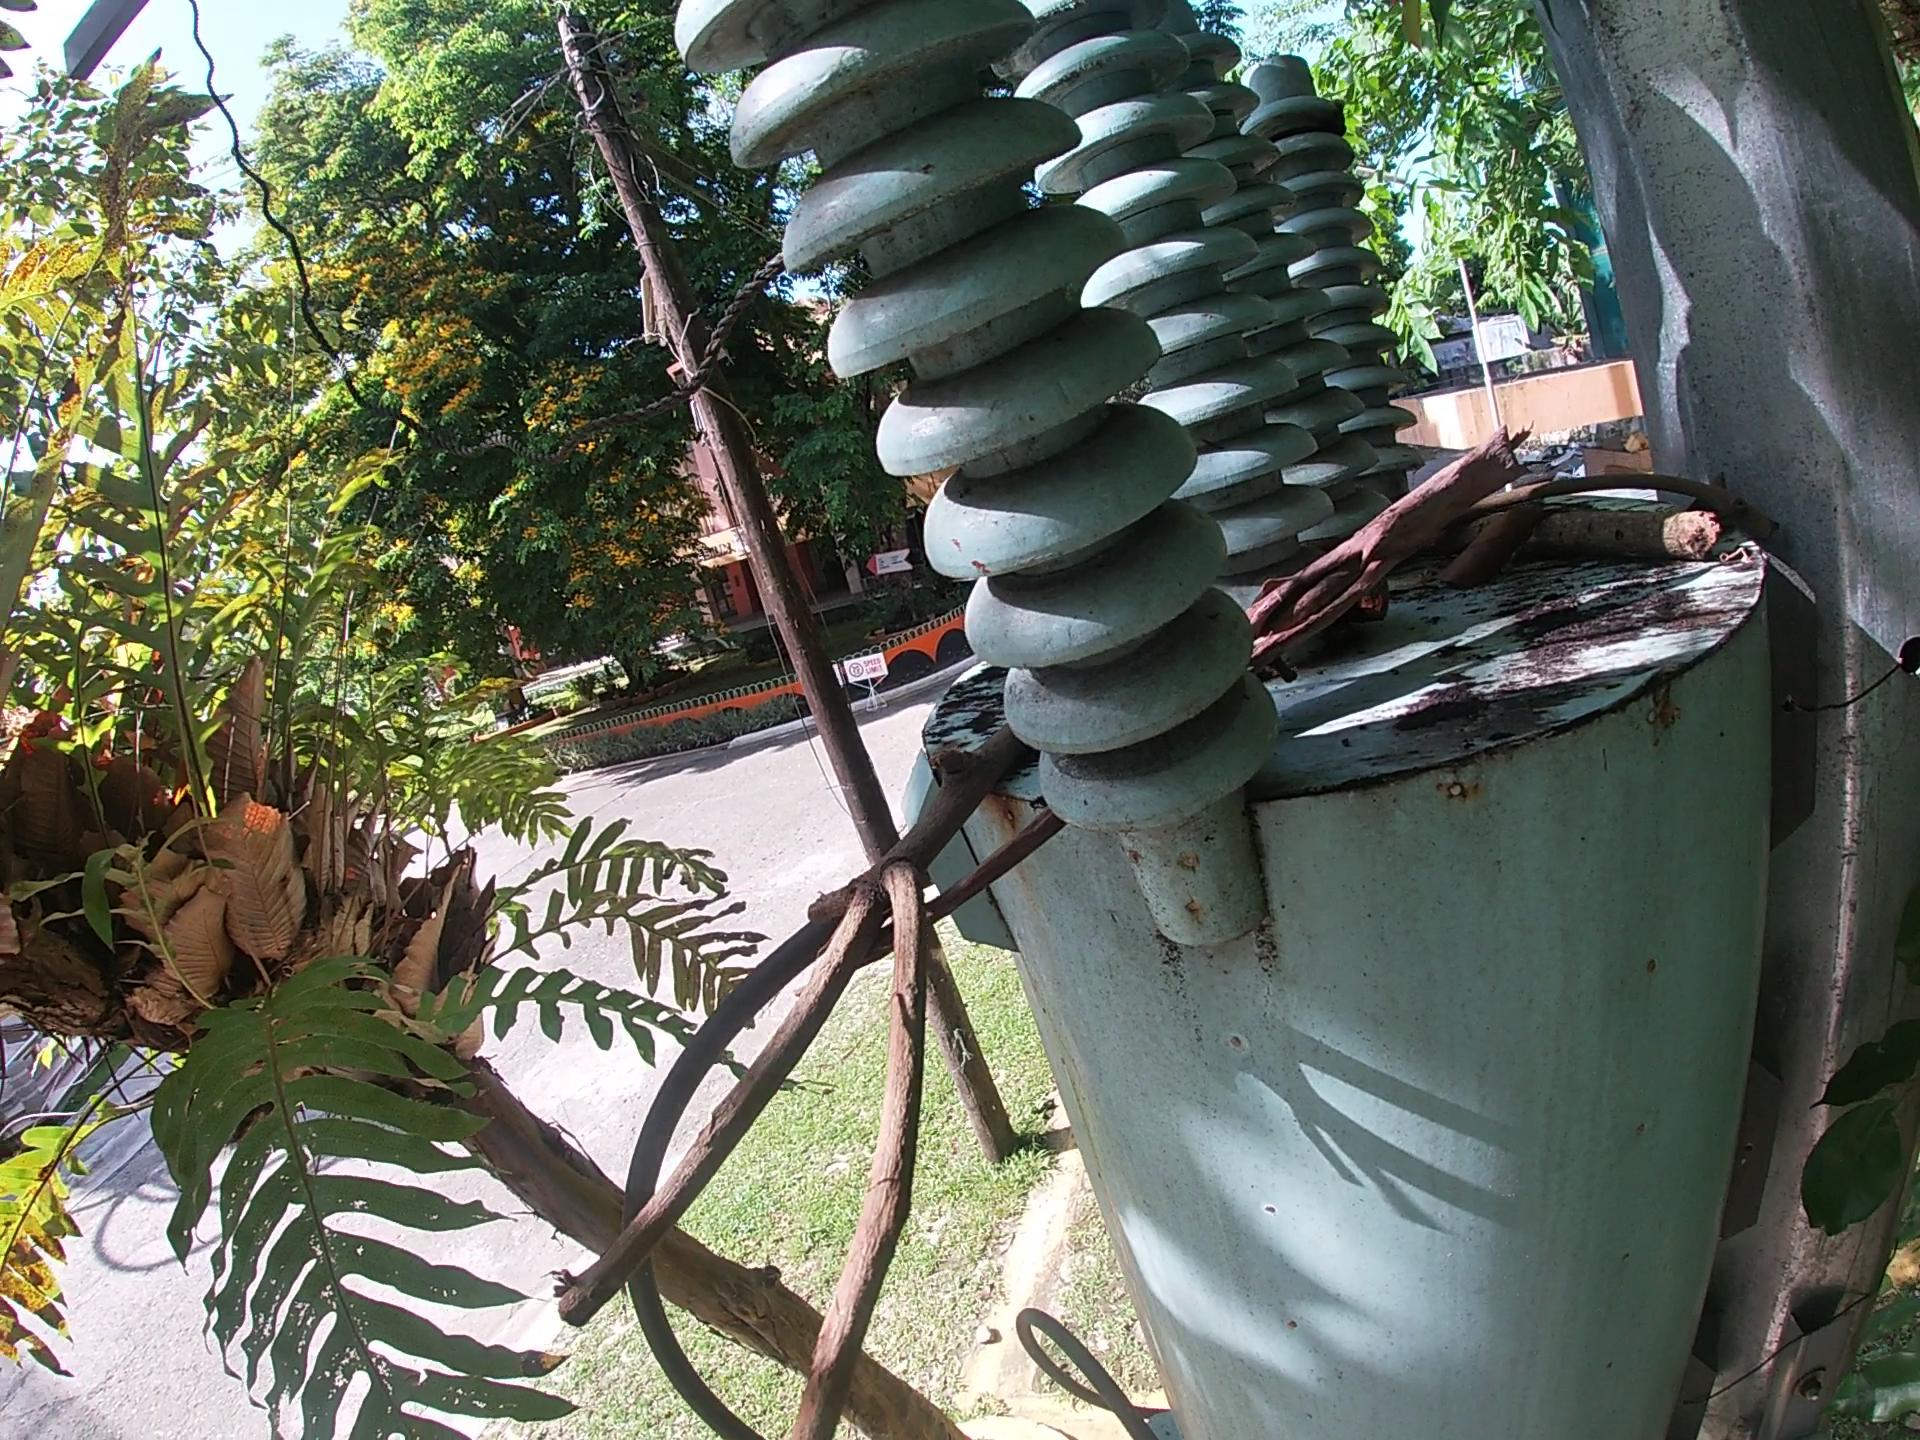leaf: (1435, 495, 1553, 593)
tree branch: (534, 717, 1031, 1440), (1243, 419, 1531, 679), (862, 805, 1069, 970), (1483, 464, 1788, 538), (1438, 495, 1723, 563)
